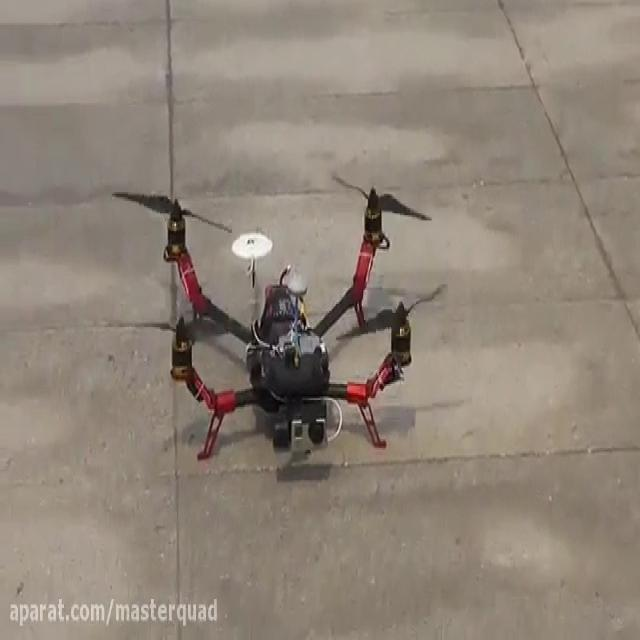drone: (108, 164, 445, 466)
